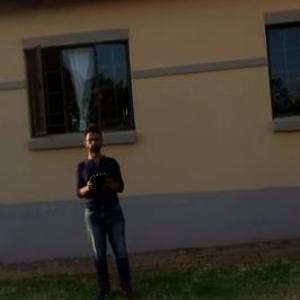follow: (73, 122, 140, 299)
